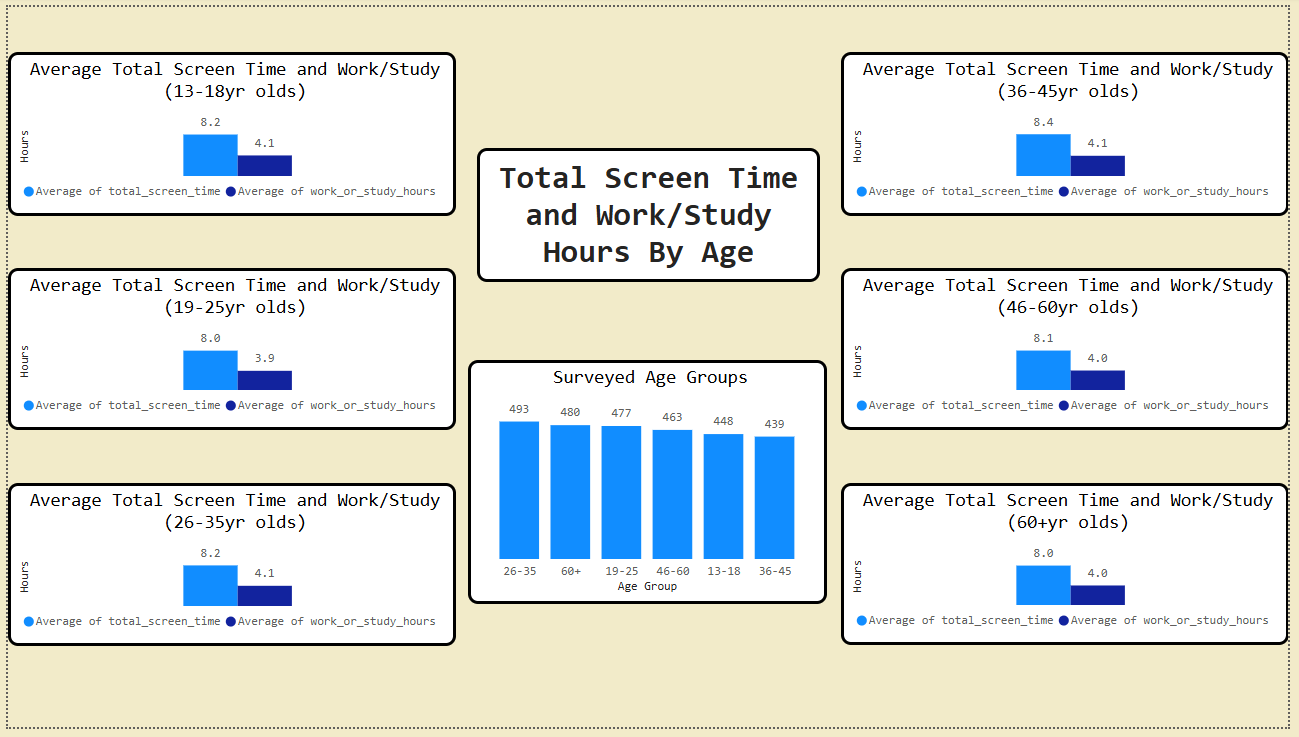

Layout of this report page (visuals, bound fields, positions):
{"tool":"powerbi","page":{"name":"Screen Time vs. Work/Study Hours","canvas":[1280,720],"ordinal":0},"visuals":[{"type":"clusteredColumnChart","title":"Surveyed Age Groups","fields":{"Y":["CountNonNull(daily_internet_usage_by_age_gro.age)"],"Category":["daily_internet_usage_by_age_gro.age_group"]},"box":[460,353.3,359.4,244.1],"z":1},{"type":"clusteredColumnChart","title":"Average Total Screen Time and Work/Study  (13-18yr olds)","fields":{"Y":["Avg(daily_internet_usage_by_age_gro.total_screen_time)","Avg(daily_internet_usage_by_age_gro.work_or_study_hours)"]},"box":[0,45.4,447.7,163.1],"z":2},{"type":"clusteredColumnChart","title":"Average Total Screen Time and Work/Study  (19-25yr olds)","fields":{"Y":["Avg(daily_internet_usage_by_age_gro.total_screen_time)","Avg(daily_internet_usage_by_age_gro.work_or_study_hours)"]},"box":[0,261.3,447.7,161.9],"z":3},{"type":"clusteredColumnChart","title":"Average Total Screen Time and Work/Study  (26-35yr olds)","fields":{"Y":["Avg(daily_internet_usage_by_age_gro.total_screen_time)","Avg(daily_internet_usage_by_age_gro.work_or_study_hours)"]},"box":[0,475.9,447.7,163.1],"z":4},{"type":"clusteredColumnChart","title":"Average Total Screen Time and Work/Study  (36-45yr olds)","fields":{"Y":["Avg(daily_internet_usage_by_age_gro.total_screen_time)","Avg(daily_internet_usage_by_age_gro.work_or_study_hours)"]},"box":[832.8,45.4,447.7,163.1],"z":5},{"type":"clusteredColumnChart","title":"Average Total Screen Time and Work/Study  (46-60yr olds)","fields":{"Y":["Avg(daily_internet_usage_by_age_gro.total_screen_time)","Avg(daily_internet_usage_by_age_gro.work_or_study_hours)"]},"box":[832.8,261.3,447.7,161.9],"z":6},{"type":"clusteredColumnChart","title":"Average Total Screen Time and Work/Study  (60+yr olds)","fields":{"Y":["Avg(daily_internet_usage_by_age_gro.total_screen_time)","Avg(daily_internet_usage_by_age_gro.work_or_study_hours)"]},"box":[832.8,475.9,447.7,161.9],"z":7},{"type":"textbox","box":[468.6,141.1,343.4,133.7],"z":8}]}

Visuals, with their boxes in screenshot pixels (x1, y1, x2, y2), scaled from the page's 1280x720 canvas onto the 1299x737 screenshot:
"Surveyed Age Groups" clusteredColumnChart: [467, 362, 832, 612]
"Average Total Screen Time and Work/Study  (13-18yr olds)" clusteredColumnChart: [0, 46, 454, 213]
"Average Total Screen Time and Work/Study  (19-25yr olds)" clusteredColumnChart: [0, 267, 454, 433]
"Average Total Screen Time and Work/Study  (26-35yr olds)" clusteredColumnChart: [0, 487, 454, 654]
"Average Total Screen Time and Work/Study  (36-45yr olds)" clusteredColumnChart: [845, 46, 1298, 213]
"Average Total Screen Time and Work/Study  (46-60yr olds)" clusteredColumnChart: [845, 267, 1298, 433]
"Average Total Screen Time and Work/Study  (60+yr olds)" clusteredColumnChart: [845, 487, 1298, 653]
textbox: [476, 144, 824, 281]
